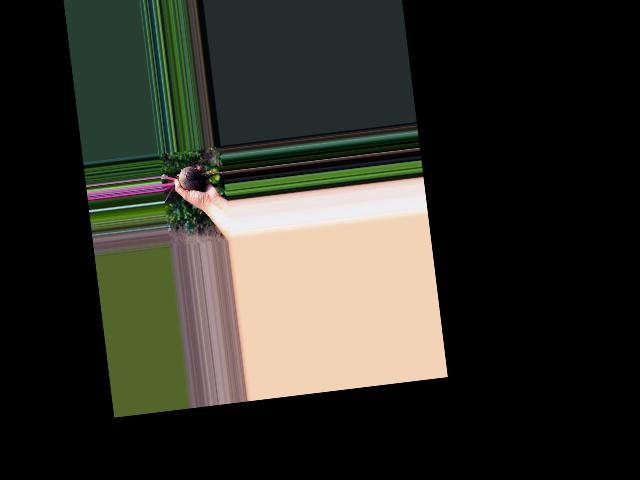beet: (159, 152, 227, 203)
